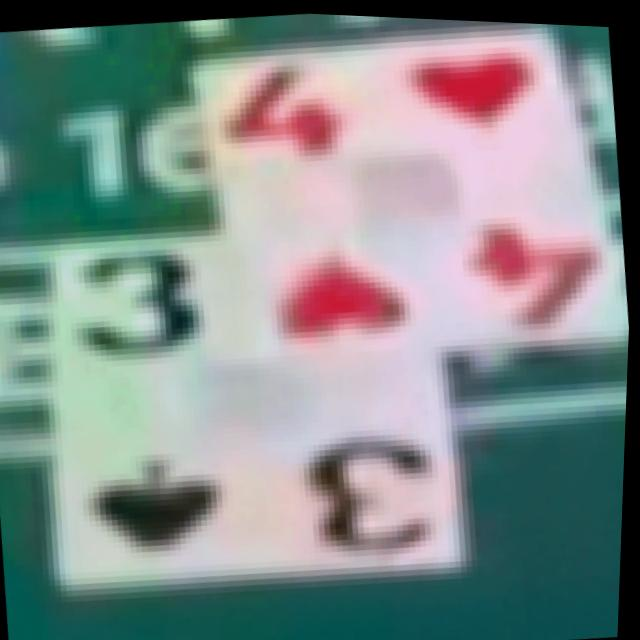Card-3: (59, 244, 469, 591)
Card-4: (200, 19, 628, 363)
